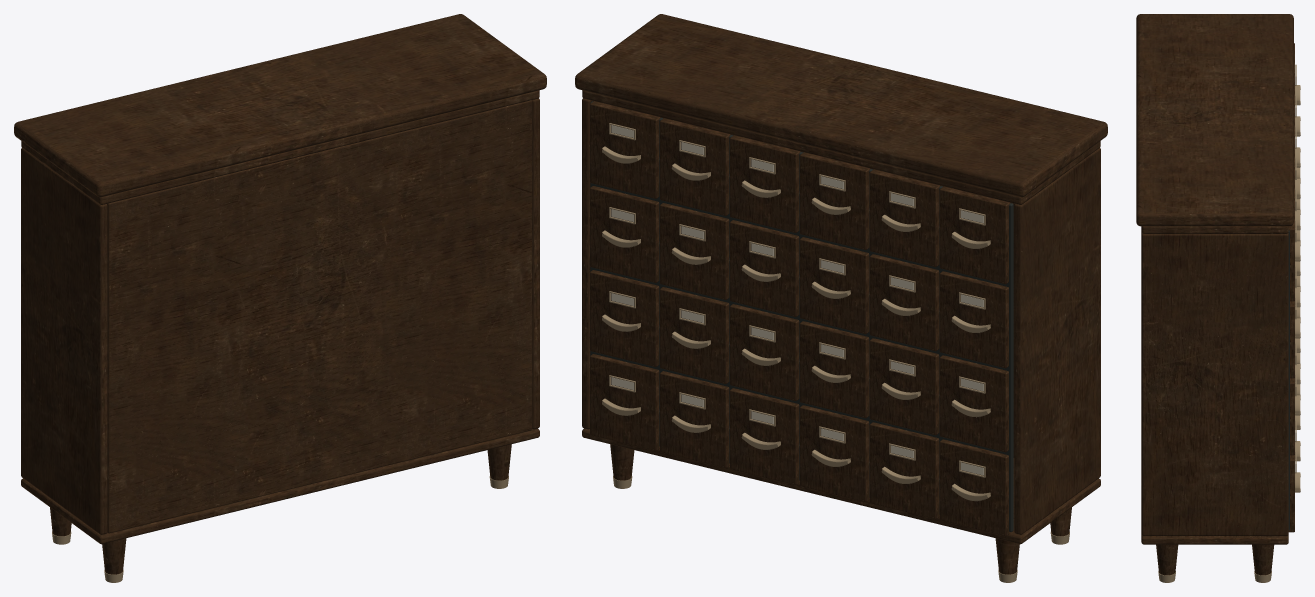
File: crafted-apothecary-chest.glb
3 renders of one model, left to right at view 1: azimuth 30°, elevation 25°; view 2: azimuth 150°, elevation 25°; view 3: azimuth 270°, elevation 25°, orthographic. The views are drawn at different scales.
Visible parts, largest first — view 1: walnut_surfaces; view 2: walnut_surfaces, bronze_surfaces, dark_surfaces, paper_surfaces; view 3: walnut_surfaces, bronze_surfaces, dark_surfaces.
Boxes of the visible parts, x1,y1,x2,y2 form: walnut_surfaces: (14, 14, 546, 574); walnut_surfaces: (575, 14, 1107, 574); bronze_surfaces: (602, 123, 1069, 582); dark_surfaces: (590, 101, 1013, 531); paper_surfaces: (611, 125, 983, 475); walnut_surfaces: (1136, 14, 1294, 575); bronze_surfaces: (1158, 64, 1300, 582); dark_surfaces: (1288, 230, 1289, 530).
Size of the model in its own units: 1.39 by 1.23 by 0.4795.
Materials: 4 (1 with a texture image).
